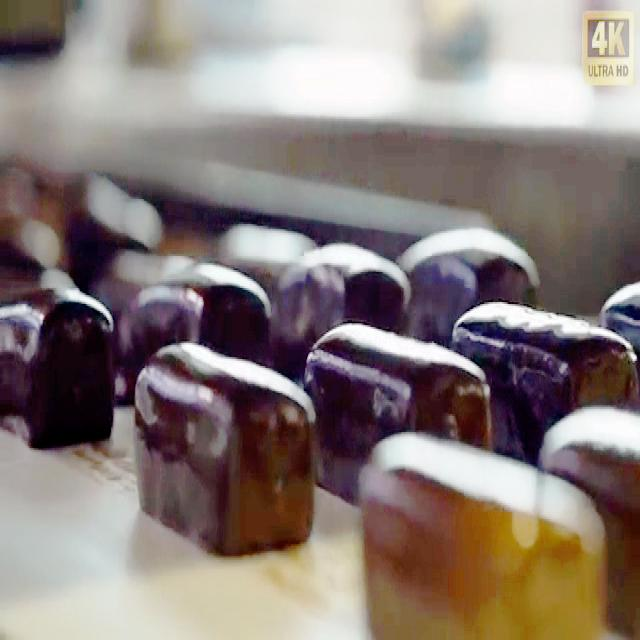Choco: (356, 426, 607, 634), (132, 336, 317, 556), (304, 316, 491, 454), (541, 384, 640, 628), (451, 295, 636, 414), (123, 257, 273, 399), (280, 231, 413, 386), (1, 277, 116, 448), (414, 212, 536, 329)
